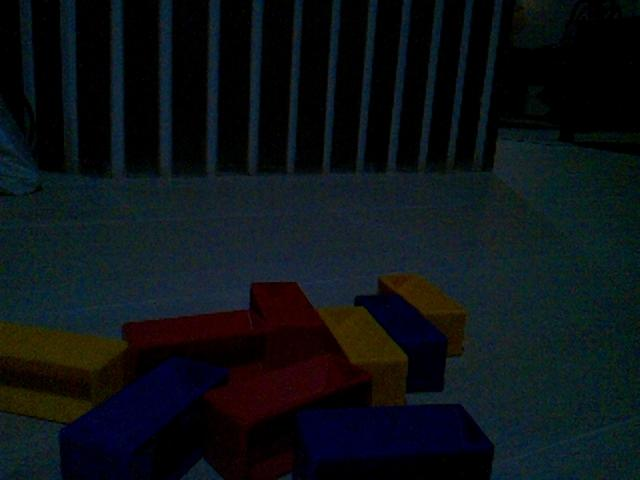blue: (57, 353, 230, 478), (292, 401, 496, 479), (353, 290, 450, 393)
red: (203, 351, 373, 430), (121, 306, 268, 362), (249, 279, 348, 362)
yellow: (1, 318, 130, 424), (315, 303, 410, 407), (377, 270, 469, 358)
